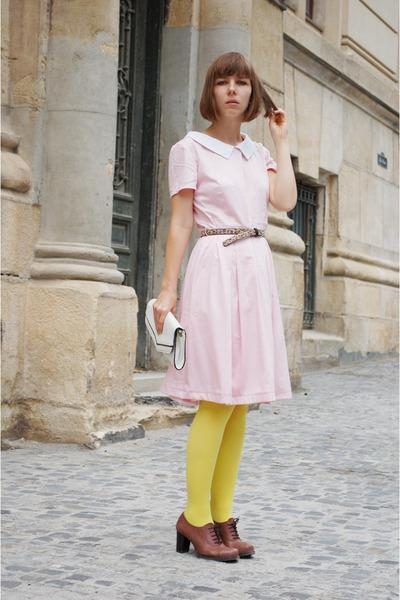bag: (146, 307, 191, 368)
dress: (168, 132, 291, 412)
shoe: (176, 512, 254, 562)
